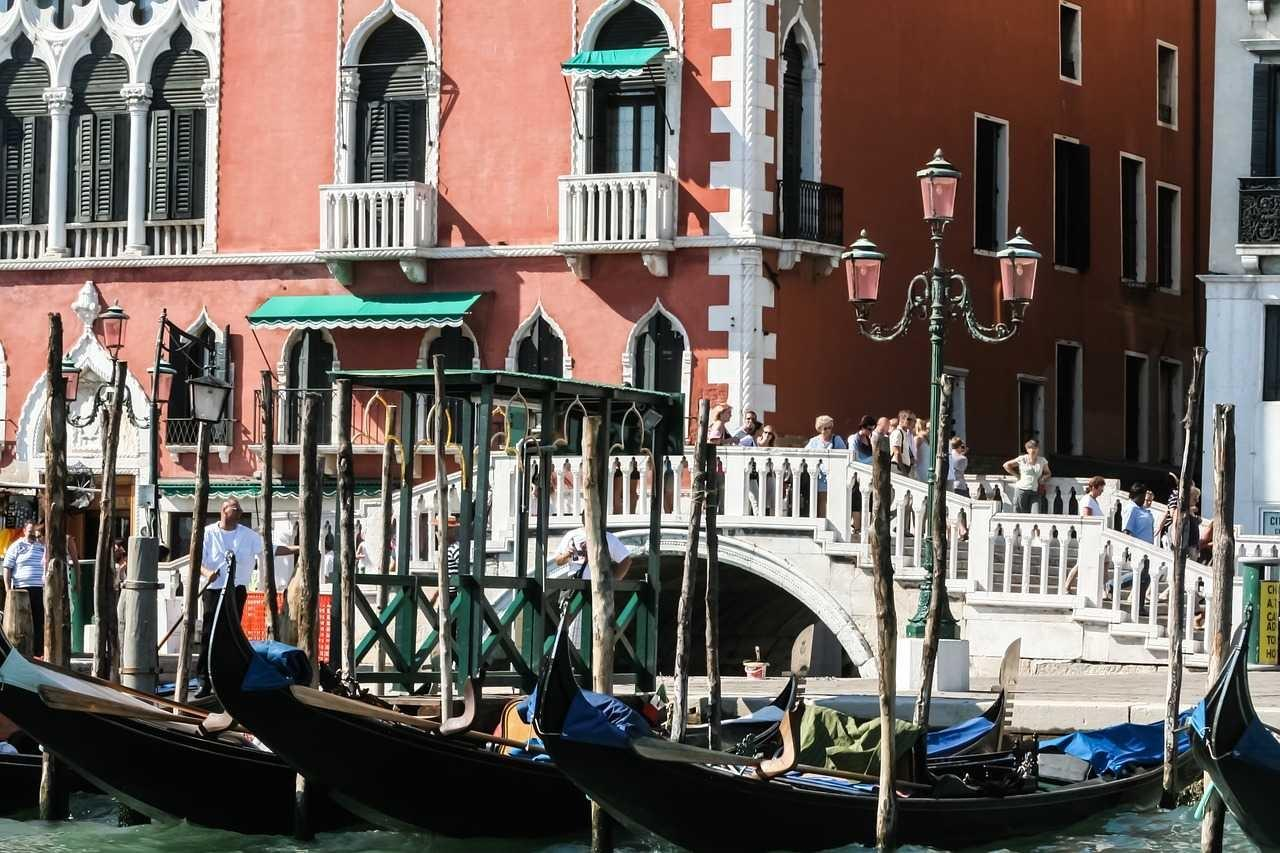kayak: (531, 577, 1173, 846), (201, 575, 593, 840), (0, 623, 321, 835), (1182, 610, 1279, 847), (0, 744, 45, 813)
